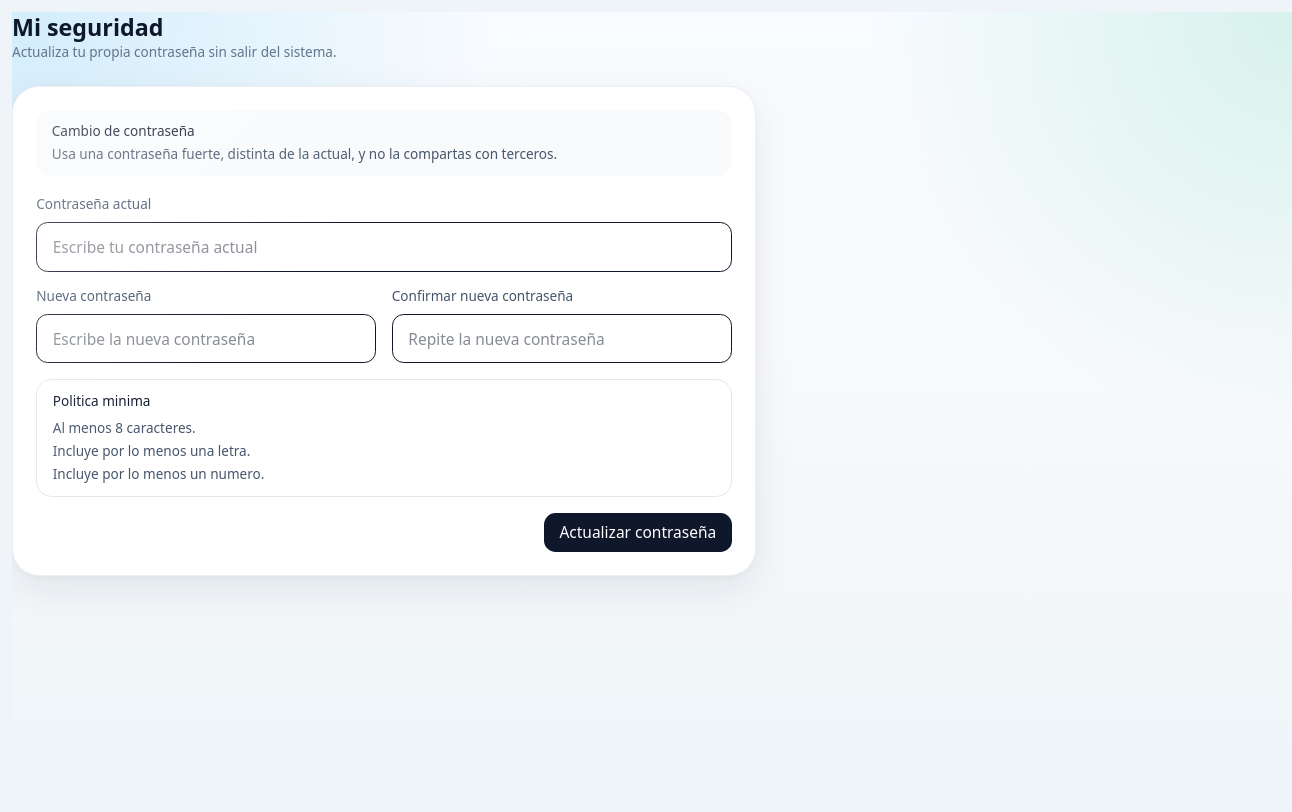
Test: MiSeguridadPage › valida que la confirmacion coincida
Type "Admin1234" into the password field with placeholder "Escribe tu contraseña actual" at (384, 247), box [36,222,732,272]
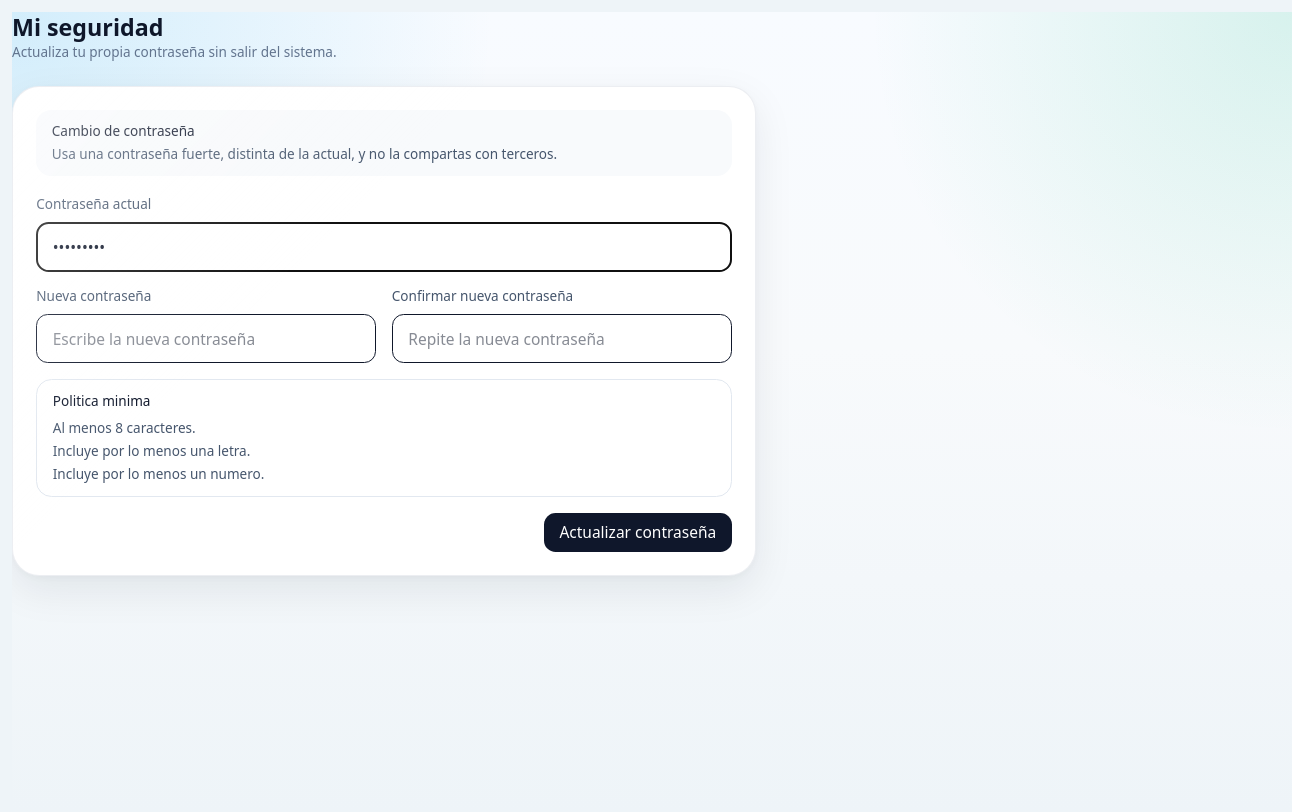
Type "NewPass123" into the password field with placeholder "Escribe la nueva contraseña" at (206, 339), box [36,314,376,363]
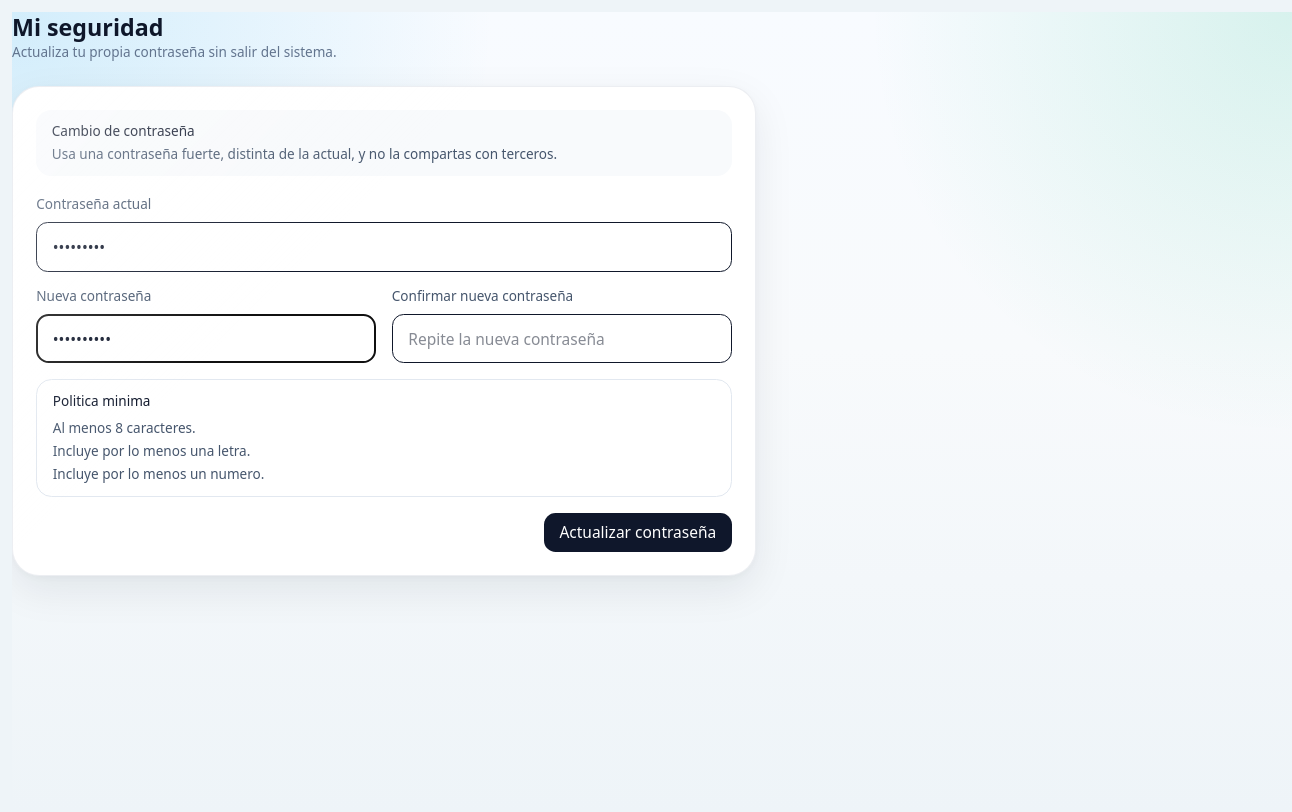
Type "OtherPass123" into the password field with placeholder "Repite la nueva contraseña" at (562, 339), box [392,314,732,363]
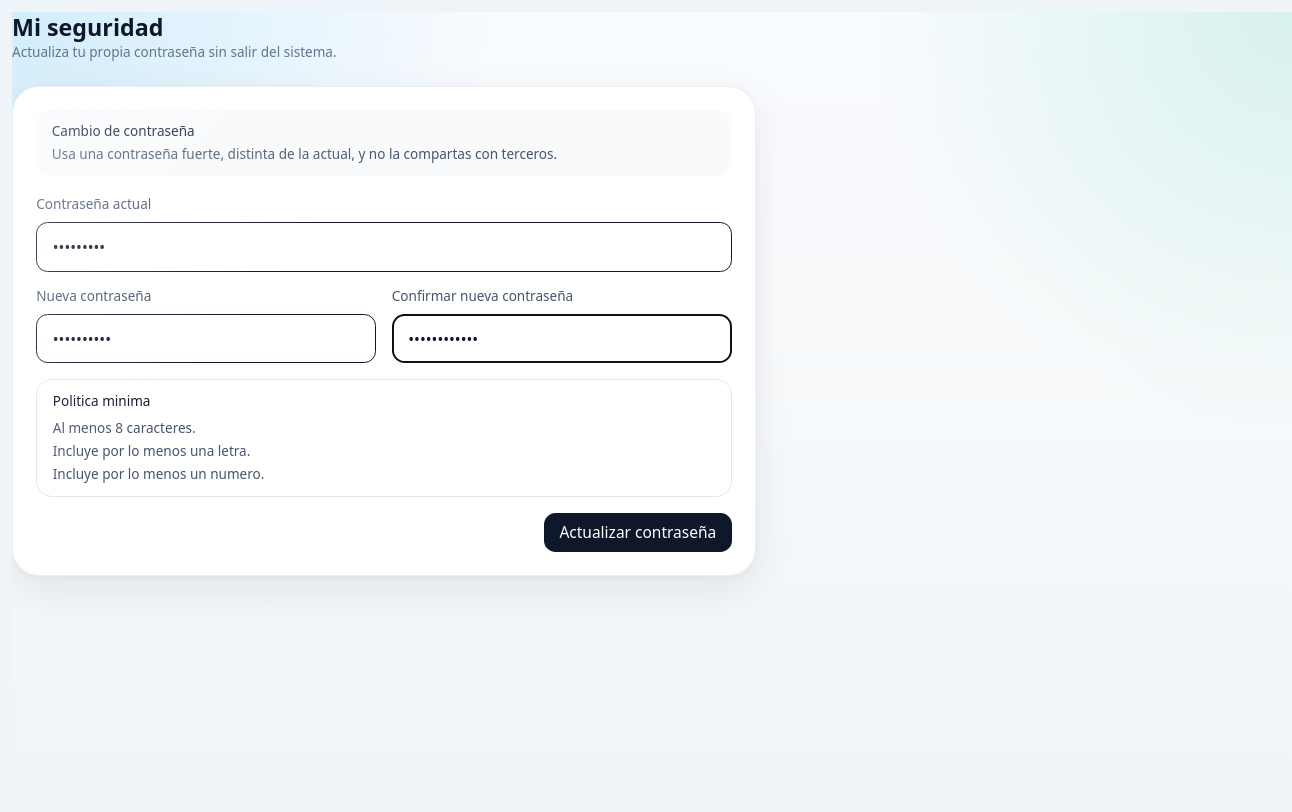
Click the button "Actualizar contraseña" at (638, 532), box [544,513,732,552]
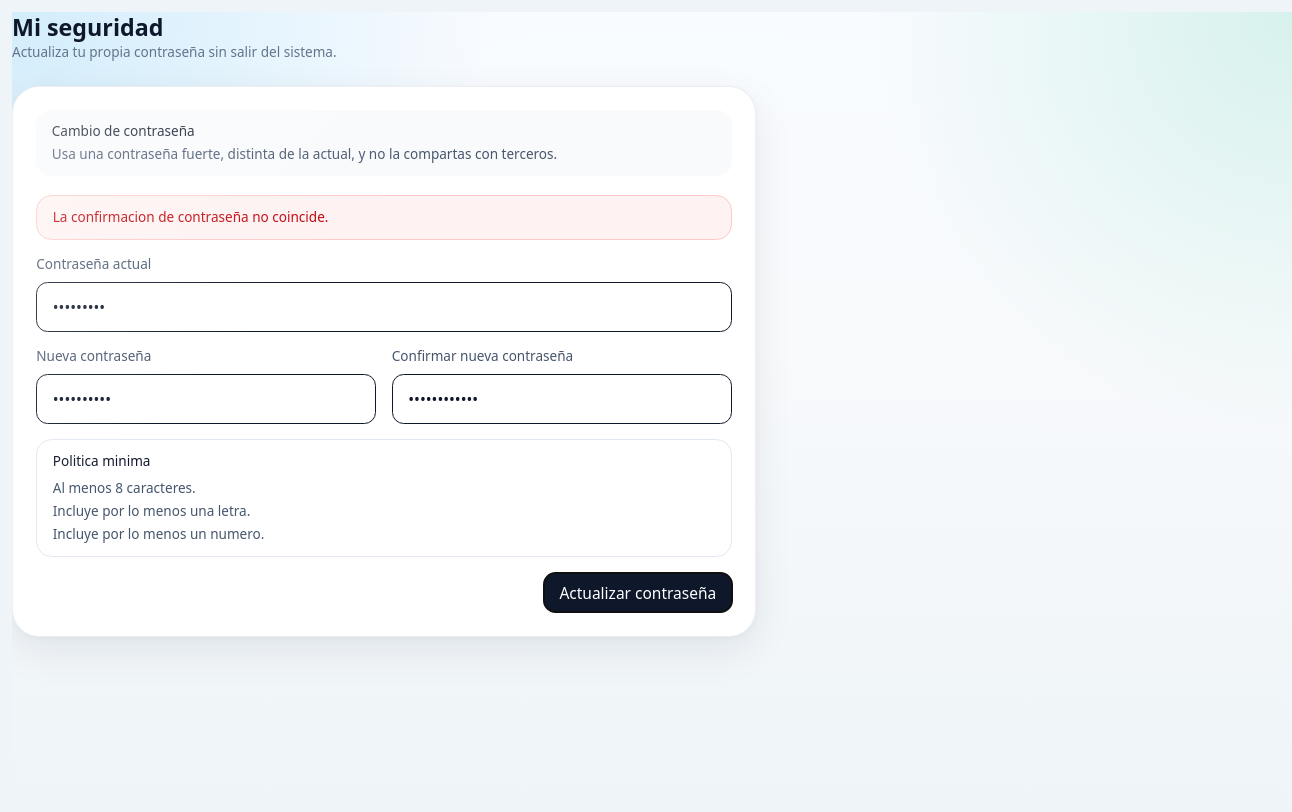
Check: the text "La confirmacion de contraseña no coincide." is shown, box [36,195,732,240]
